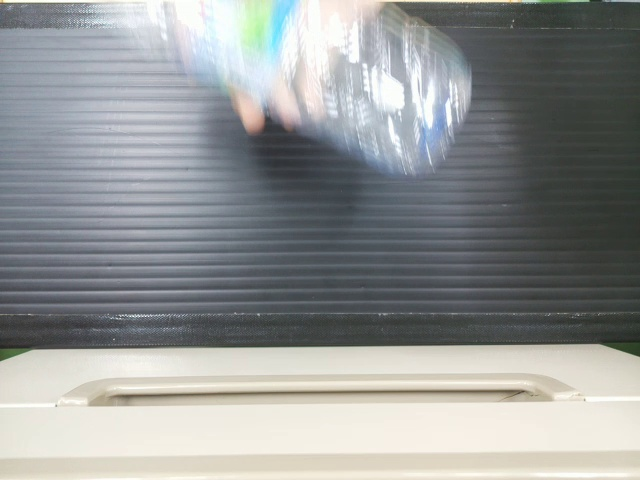bottle: (108, 0, 480, 180)
